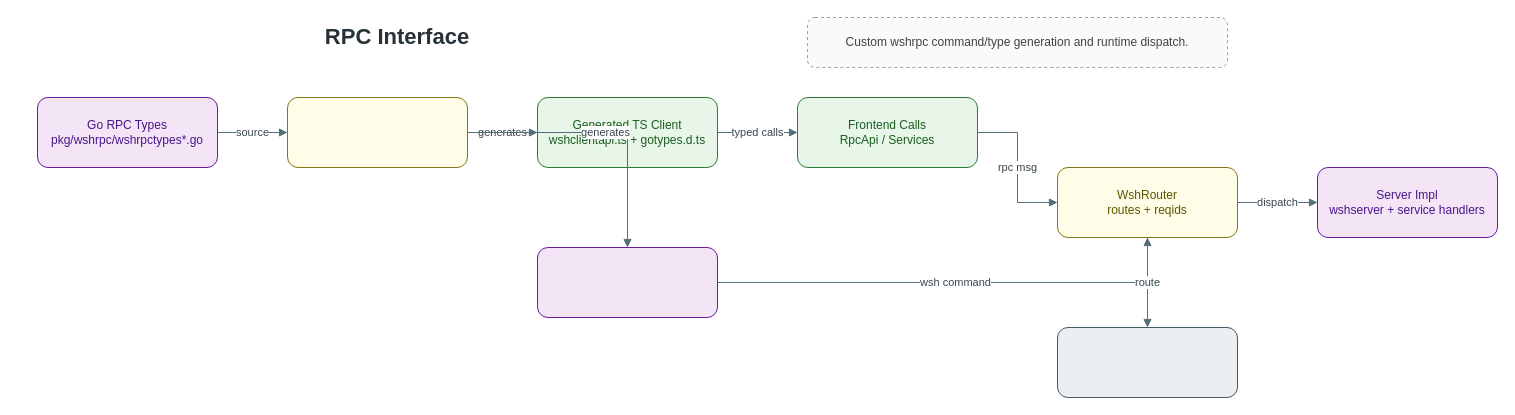
Image size: 1515x415. Some labels were removed from this diagram. The shapes that lost their labels are listed below. From the top down, each one's centre as x and y in pixels, then its label:
At [377,132]: "task generate cmd/generatets + generatego".
At [627,282]: "Generated Go Client pkg/wshrpc/wshclient".
At [1147,362]: "Trusted Leaf Routes electron / conn:local / remote".
